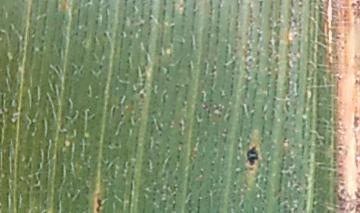tarspot: (243, 144, 261, 167), (94, 196, 105, 213)
